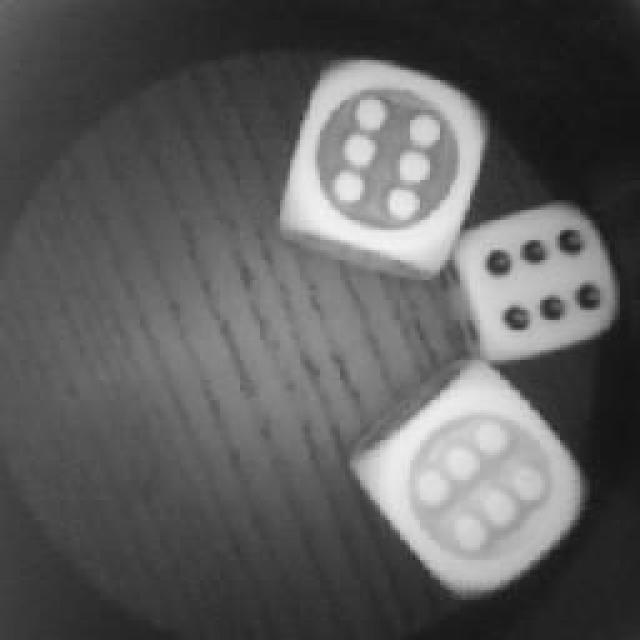dice_6: (352, 362, 588, 602), (282, 55, 488, 267), (455, 202, 617, 362)
